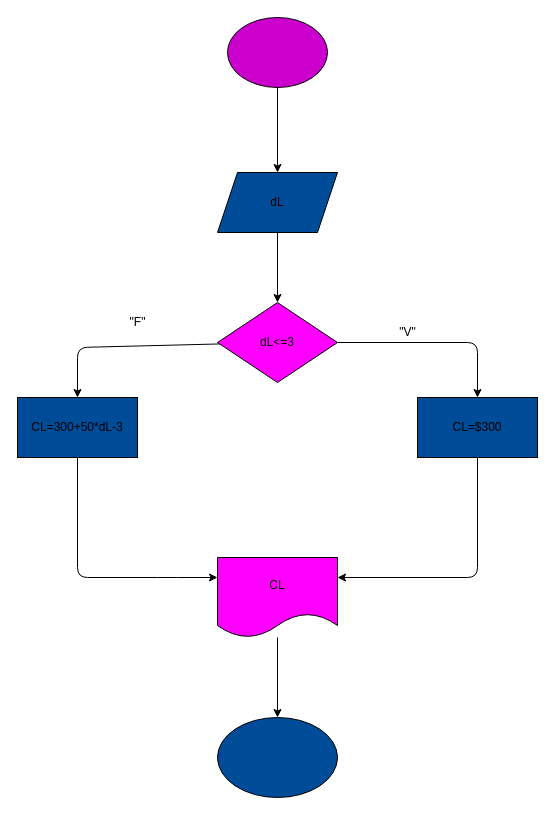
The diagram is 555 pixels wide and 815 high, and some of its shapes have lost their labels. The shapes that lost their labels are listed below. From the top down, each one's centre as x and y in pixels, then its label:
At point 277,52: "INICIO".
At point 277,757: "FIN".
